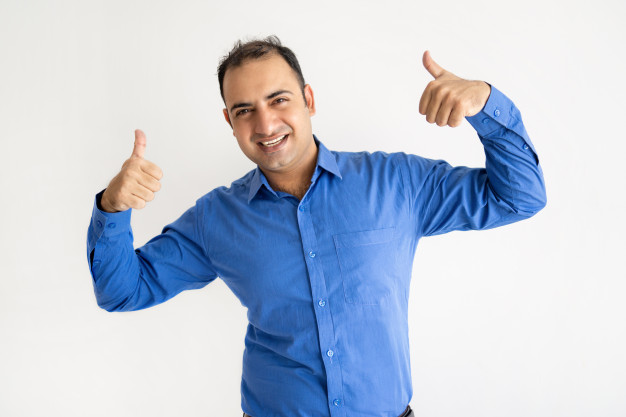thumbsup: (116, 129, 163, 210), (418, 50, 464, 127)
